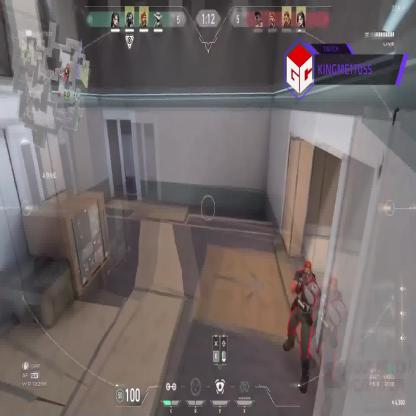enemy: (283, 258, 317, 396)
enemy_head: (302, 262, 312, 283)
